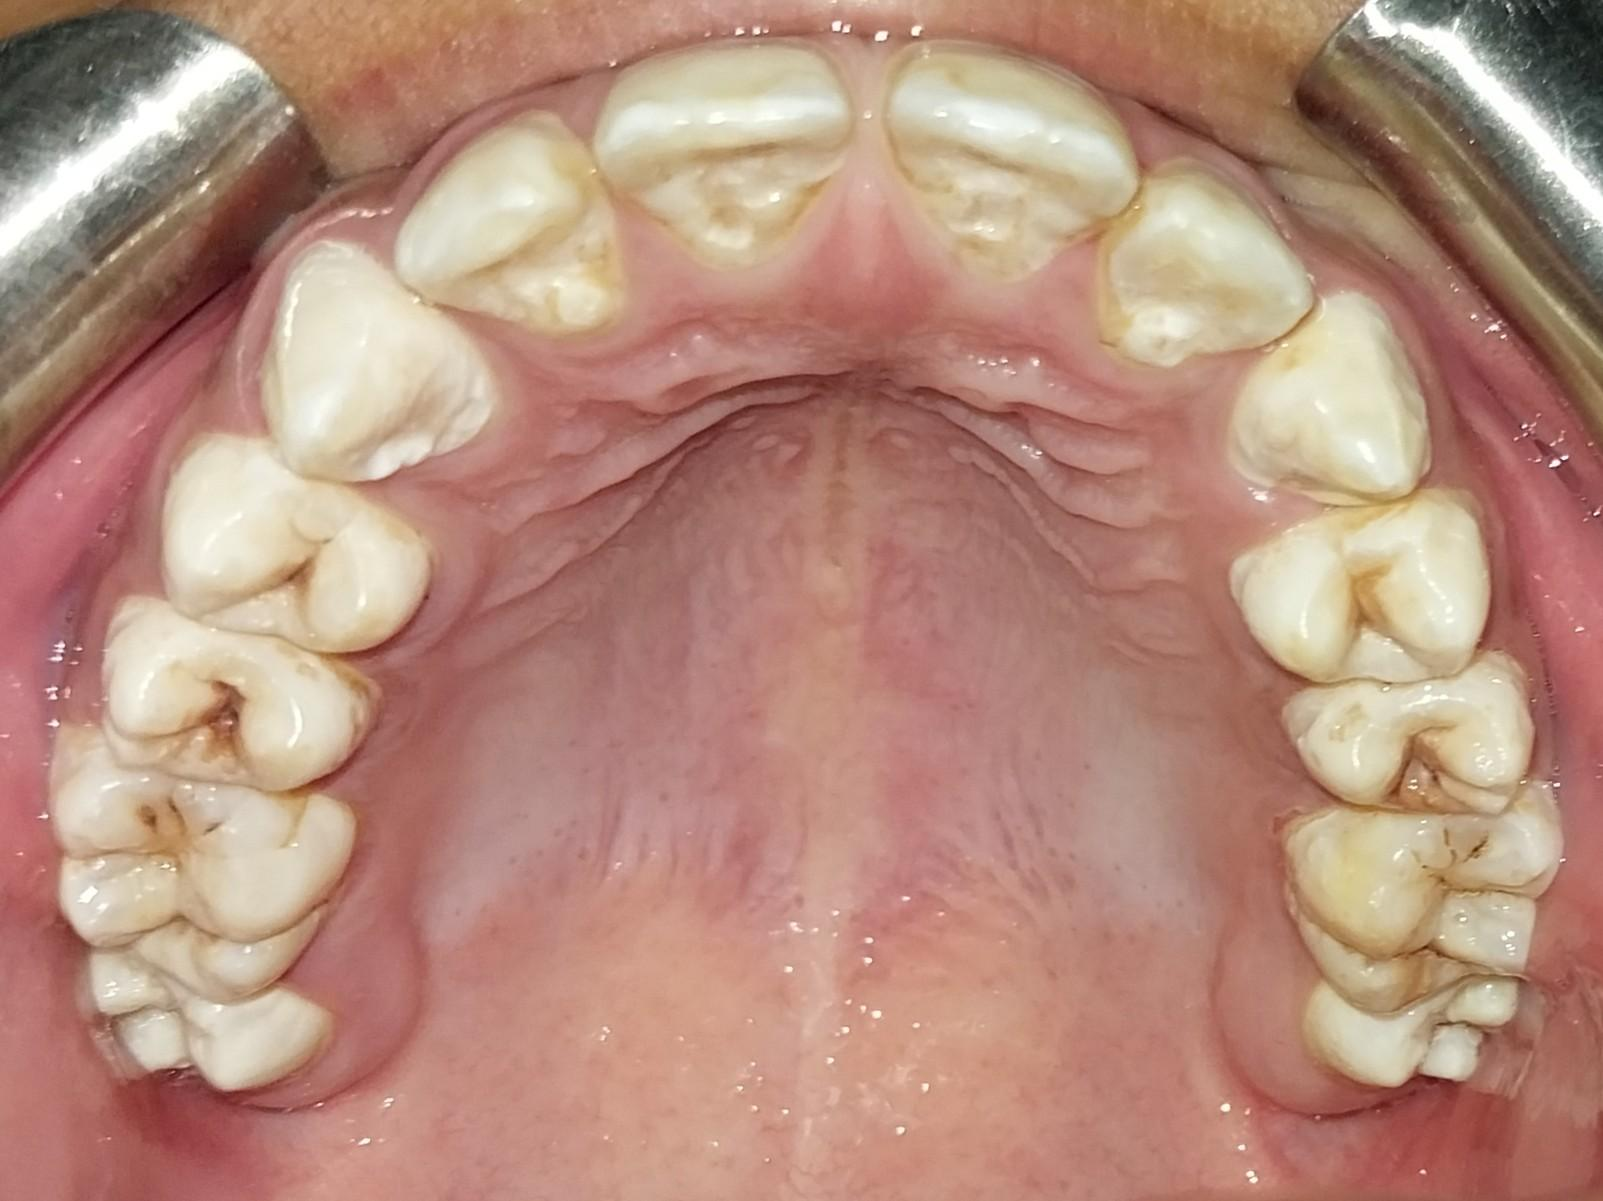D: (48, 734, 352, 996), (1286, 795, 1565, 1014), (161, 438, 428, 652), (97, 600, 376, 789), (1279, 653, 1537, 818), (1304, 963, 1516, 1100)
